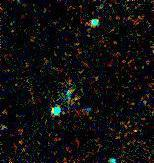star: (119, 108, 149, 138)
